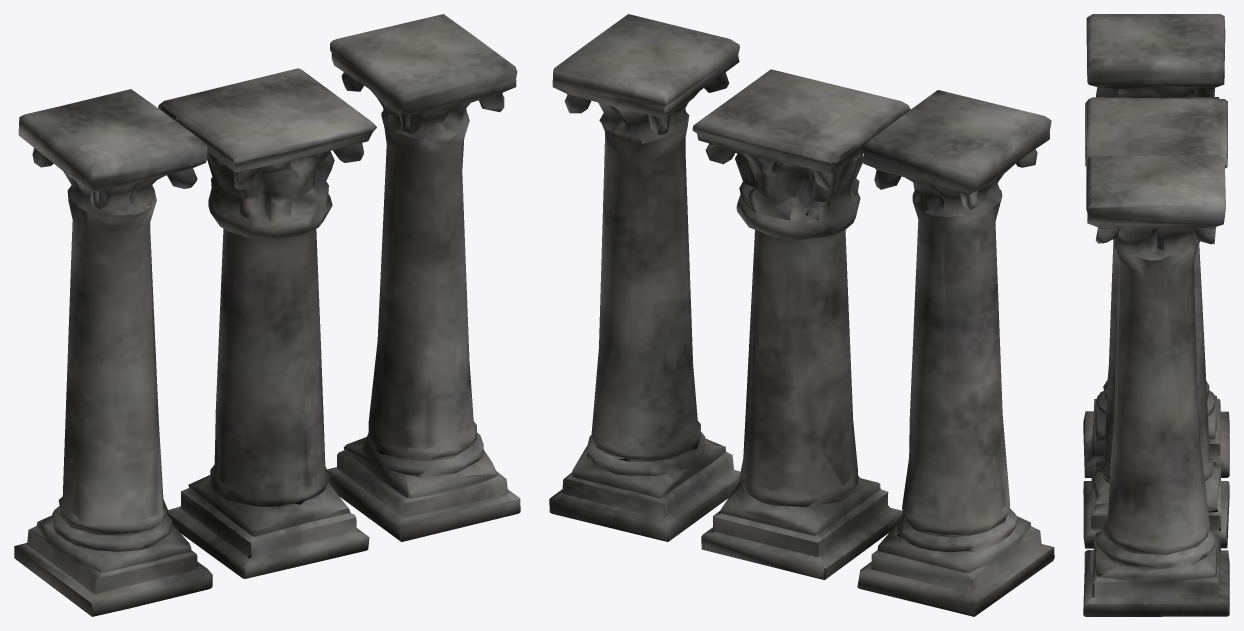
File: ornate-granite-column-v001.glb
3 renders of one model, left to right at view 1: azimuth 30°, elevation 25°; view 2: azimuth 150°, elevation 25°; view 3: azimuth 270°, elevation 25°, orthographic. The views are drawn at different scales.
Visible parts, largest first — view 1: ornate-granite-column; view 2: ornate-granite-column; view 3: ornate-granite-column.
Boxes of the visible parts, bbox=[...] form: ornate-granite-column: bbox=[14, 14, 520, 616]; ornate-granite-column: bbox=[549, 14, 1054, 616]; ornate-granite-column: bbox=[1083, 14, 1229, 616].
Size of the model in its own units: 2.05 by 2.05 by 0.6589.
1 material, 1 textured.
